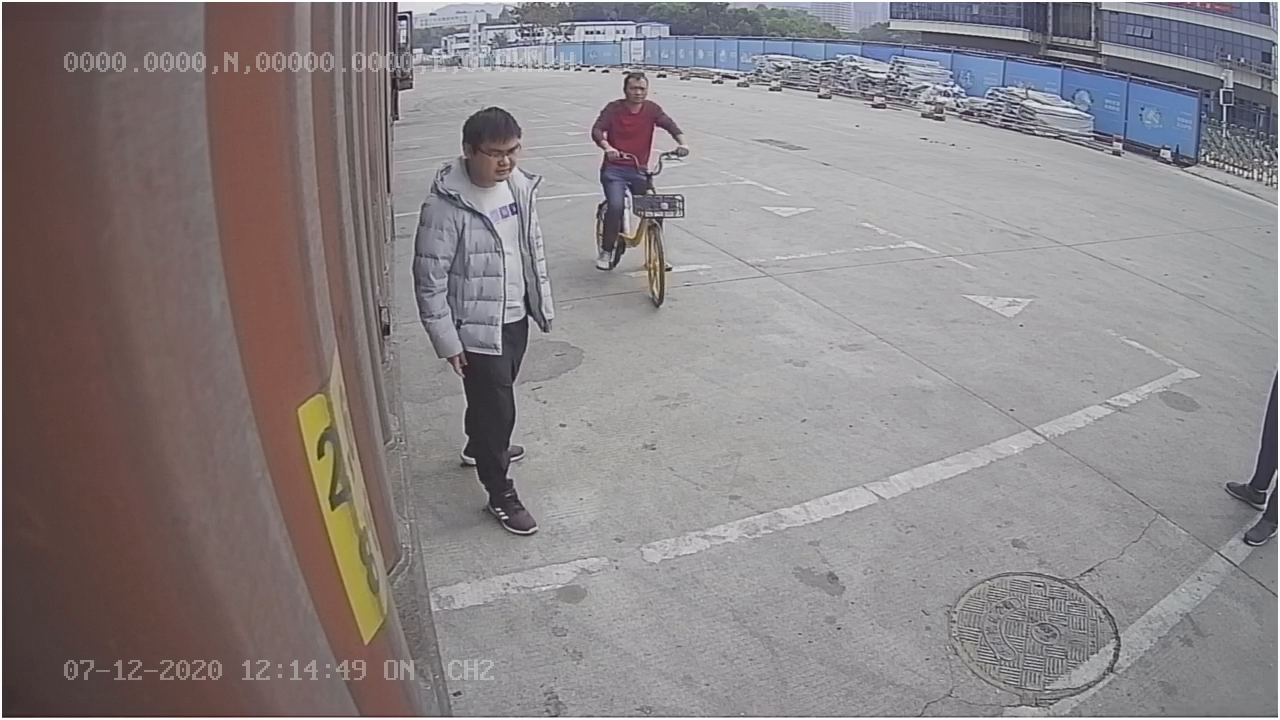person: (411, 104, 549, 533)
